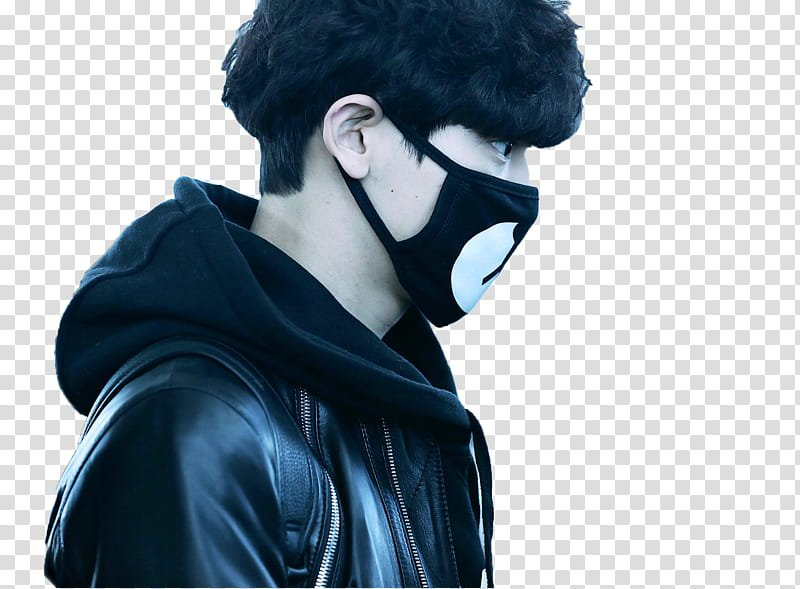mask: (217, 1, 611, 334)
